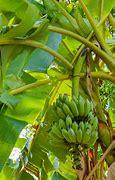banana: (48, 90, 103, 153)
